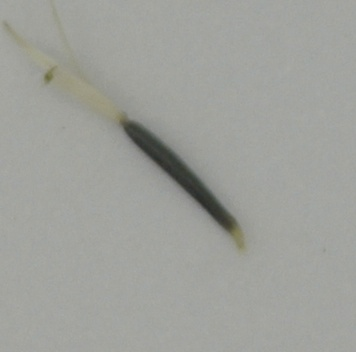เมล็ดดีเรียวยาว: (26, 31, 252, 255)
